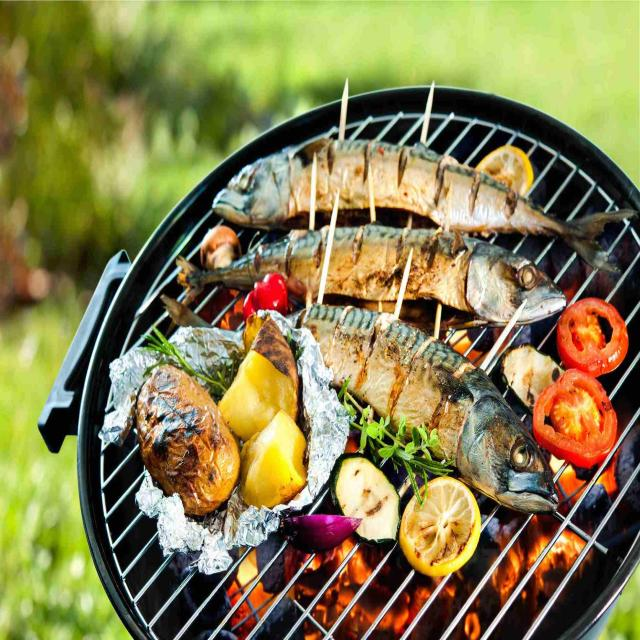pescado: (200, 291, 568, 531), (216, 127, 569, 260)
